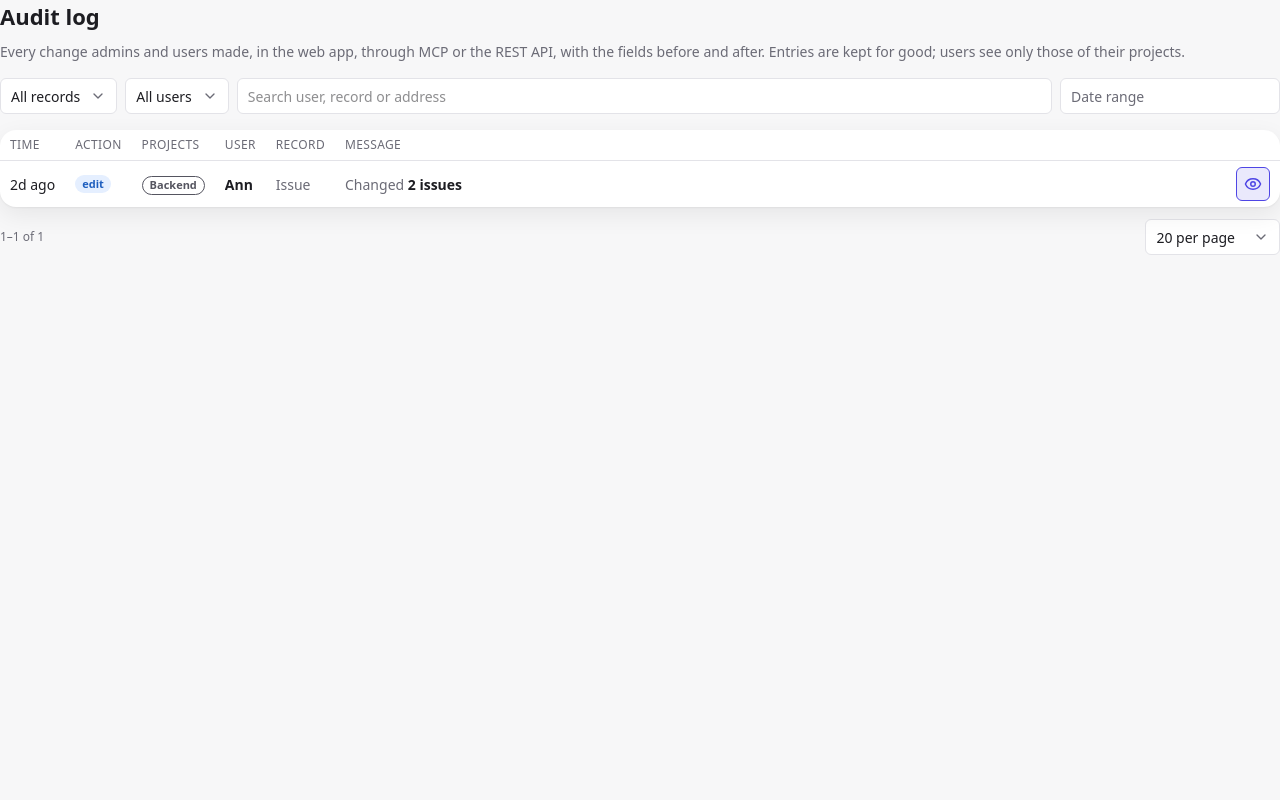
Test case: the audit page › opens a grouped entry in a dialog that reads its records
This screenshot has width=1280, height=800.
Click the button "2 issues" at [435, 184], box x1=408 y1=174 x2=462 y2=194
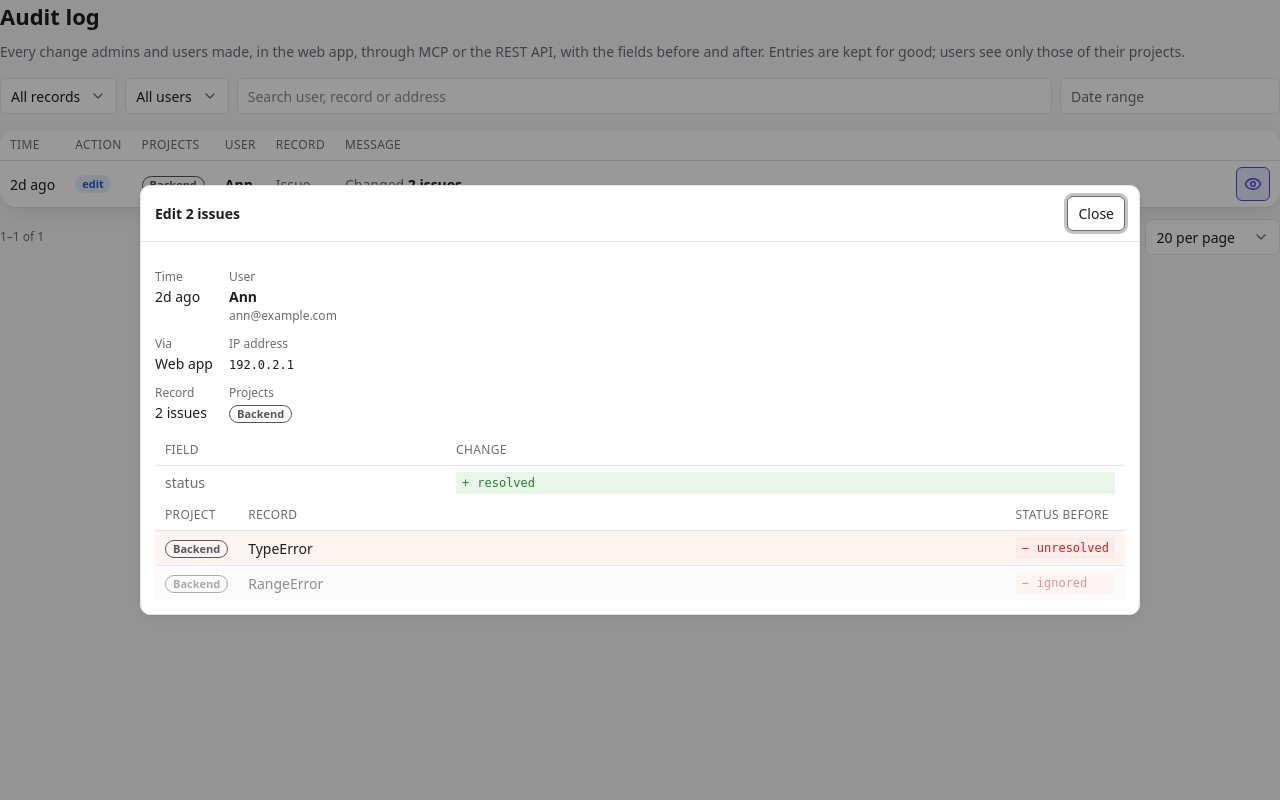
Result: the table named "Changed records" is shown at x1=155 y1=500 x2=1125 y2=600
Result: the text "RangeError" is shown at x1=248 y1=574 x2=323 y2=593
Result: the text "192.0.2.1" is shown at x1=229 y1=358 x2=294 y2=372
